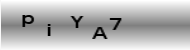7: (108, 17, 122, 30)
A: (91, 26, 108, 40)
Y: (70, 15, 84, 29)
i: (46, 24, 51, 37)
p: (22, 13, 34, 28)
